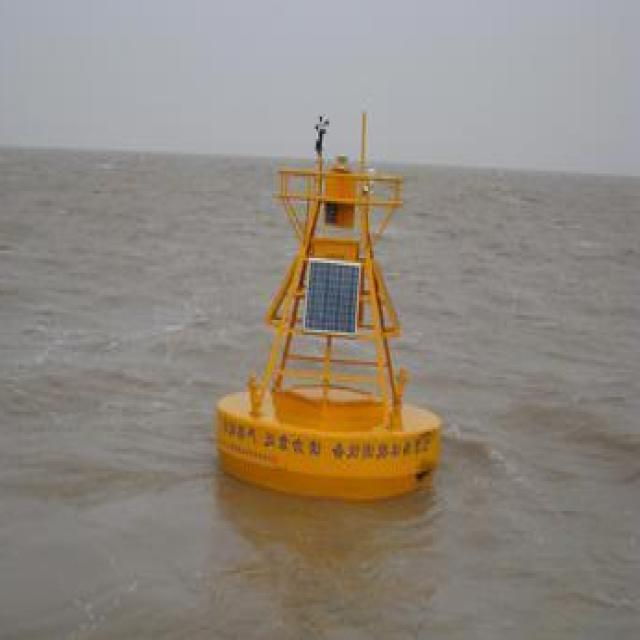buoy: (209, 104, 453, 490)
